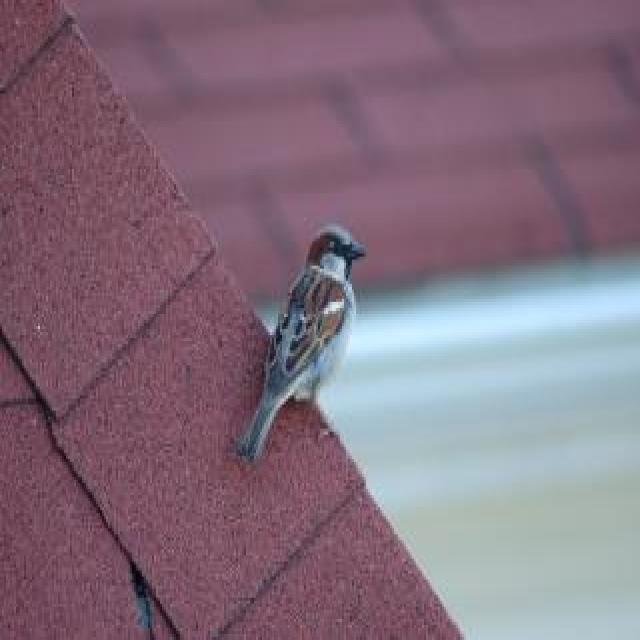bird: (232, 224, 368, 464)
